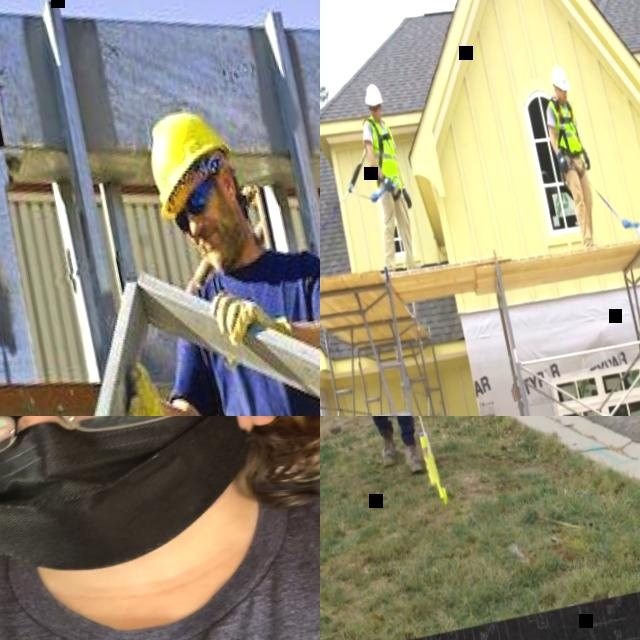Hardhat: (134, 101, 242, 216), (548, 66, 570, 94), (362, 84, 383, 109)
Mask: (0, 416, 284, 599)
NO-Mask: (194, 222, 246, 268), (372, 111, 381, 123), (558, 94, 567, 105)
NO-Safety Vest: (0, 447, 320, 640), (180, 250, 320, 416)
Person: (60, 81, 320, 416), (0, 416, 320, 640), (348, 82, 424, 277), (535, 63, 606, 253)
Safety Vest: (361, 113, 402, 194), (547, 96, 582, 157)
